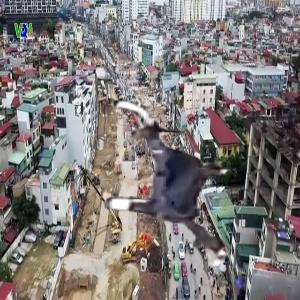drone: (77, 90, 267, 280)
